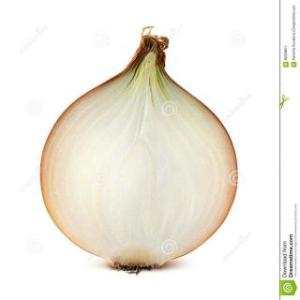onion: (38, 31, 238, 274)
